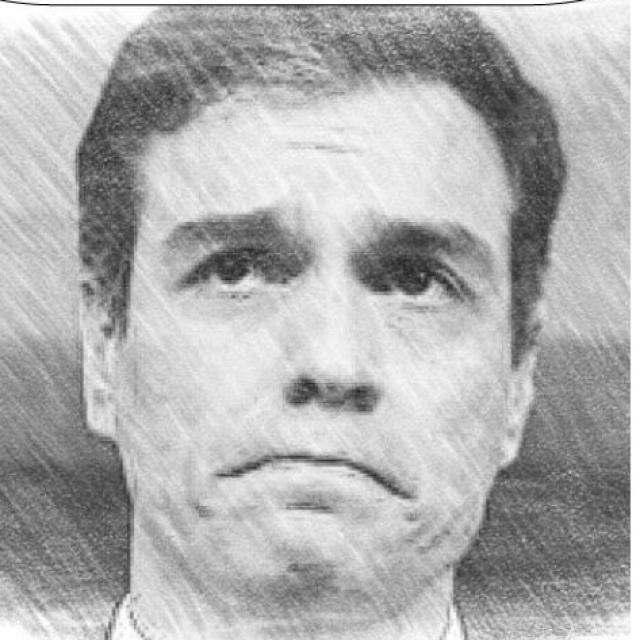Depress: (117, 88, 523, 627)
